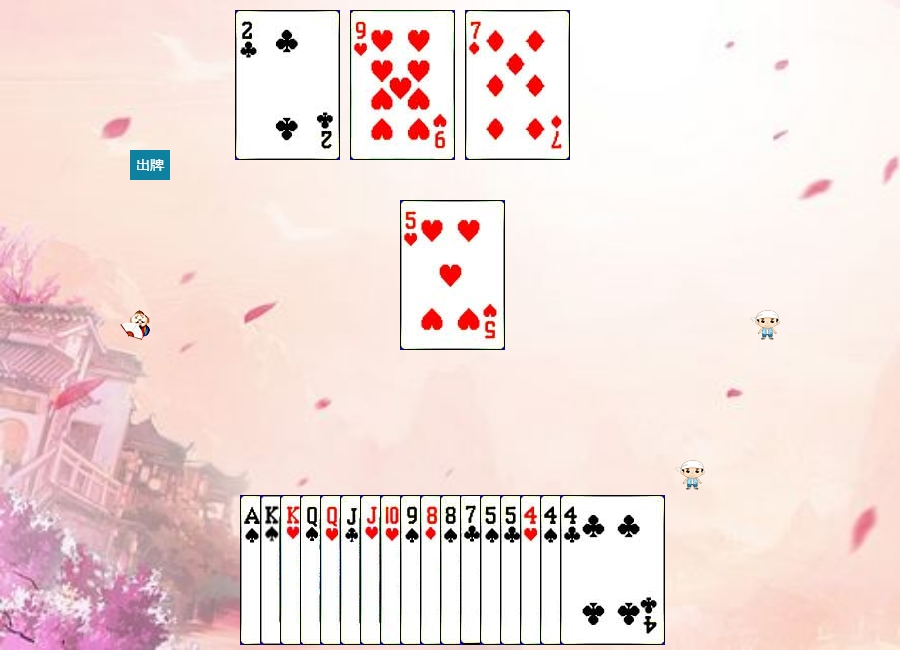10~3: (380, 495, 485, 645)
11~2: (340, 495, 445, 645)
11~3: (360, 495, 465, 645)
12~3: (320, 495, 425, 645)
12~4: (300, 495, 405, 645)
13~3: (280, 495, 385, 645)
13~4: (260, 495, 365, 645)
14~4: (240, 495, 345, 645)
15~2: (235, 10, 340, 160)
4~2: (560, 495, 665, 645)
4~3: (520, 495, 625, 645)
4~4: (540, 495, 645, 645)
5~2: (500, 495, 605, 645)
5~3: (400, 200, 505, 350)
5~4: (480, 495, 585, 645)
7~1: (465, 10, 570, 160)
7~2: (460, 495, 565, 645)
8~1: (420, 495, 525, 645)
8~4: (440, 495, 545, 645)
9~3: (350, 10, 455, 160)
9~4: (400, 495, 505, 645)
